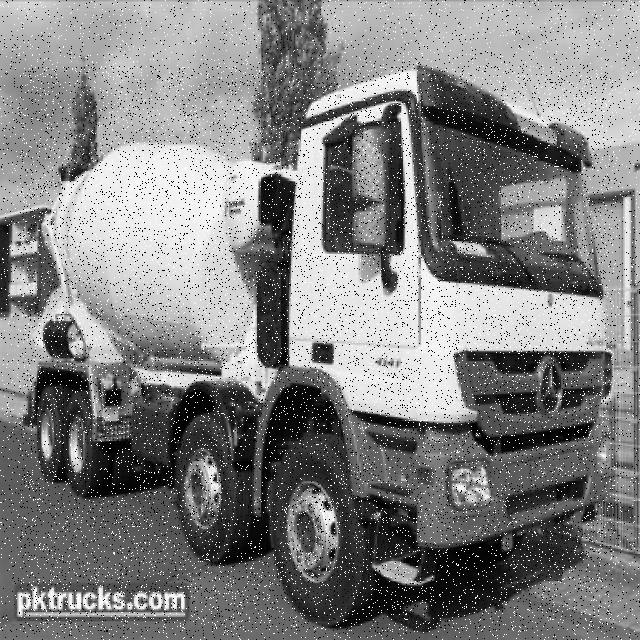Concrete Mixer: (20, 66, 614, 632)
